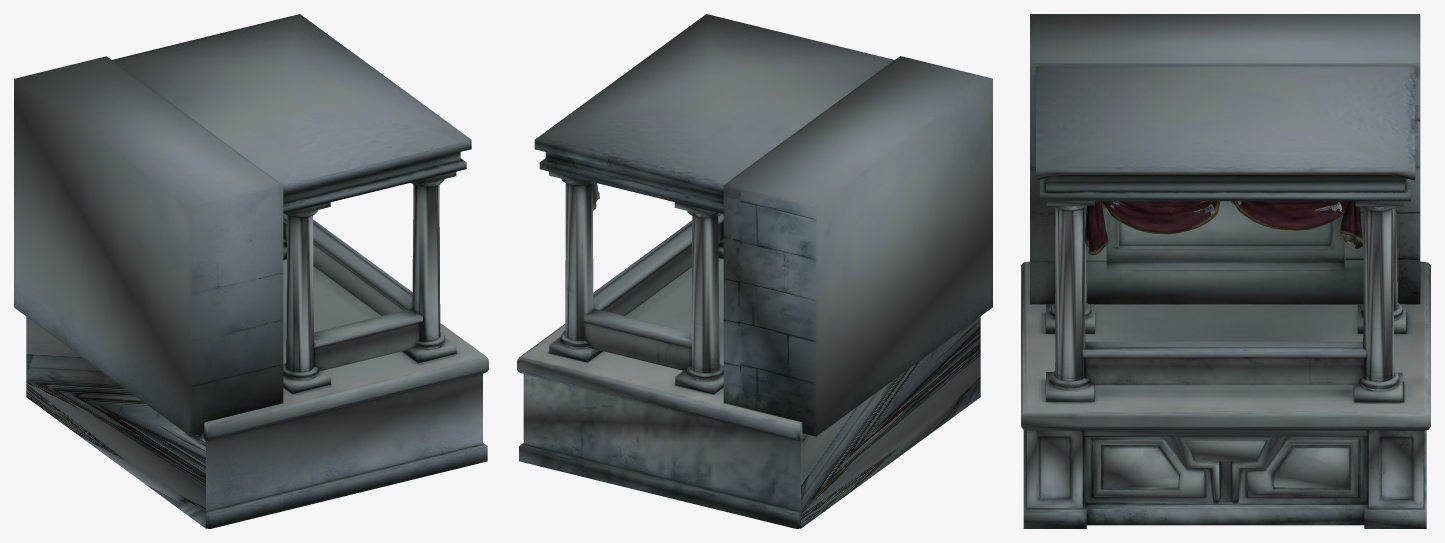
Rendered from pulvinar.glb.
The picture shows the model from 3 angles, left to right: view 1: azimuth 30°, elevation 25°; view 2: azimuth 150°, elevation 25°; view 3: azimuth 270°, elevation 25°; orthographic projection. The views are drawn at different scales.
Visible parts, largest first — view 1: model; view 2: model; view 3: model.
Boxes of the visible parts, left/top/right/bottom form: model: left=14, top=14, right=488, bottom=528; model: left=517, top=14, right=992, bottom=528; model: left=1021, top=14, right=1430, bottom=528.
Size of the model in its own units: 0.8826 by 1 by 0.9648.
1 material, 1 textured.
